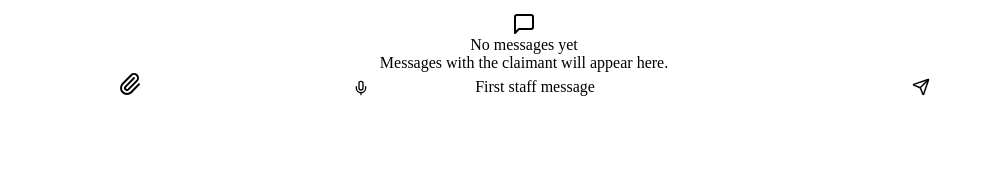
Test: Conversation › explains the no-speech voice failure without disabling text input
Click the button named "Use voice input".
click(361, 88)  # box 248,80 -> 475,96
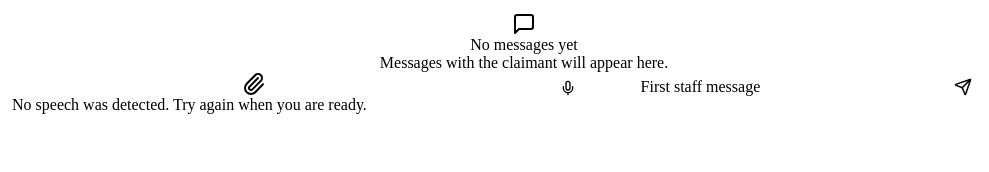
Expected: the text box named "Message to claimant" is enabled, 641,78 -> 889,96
Now the message reads "No speech was detected. Try again when you are ready.", box 12,96 -> 367,113
